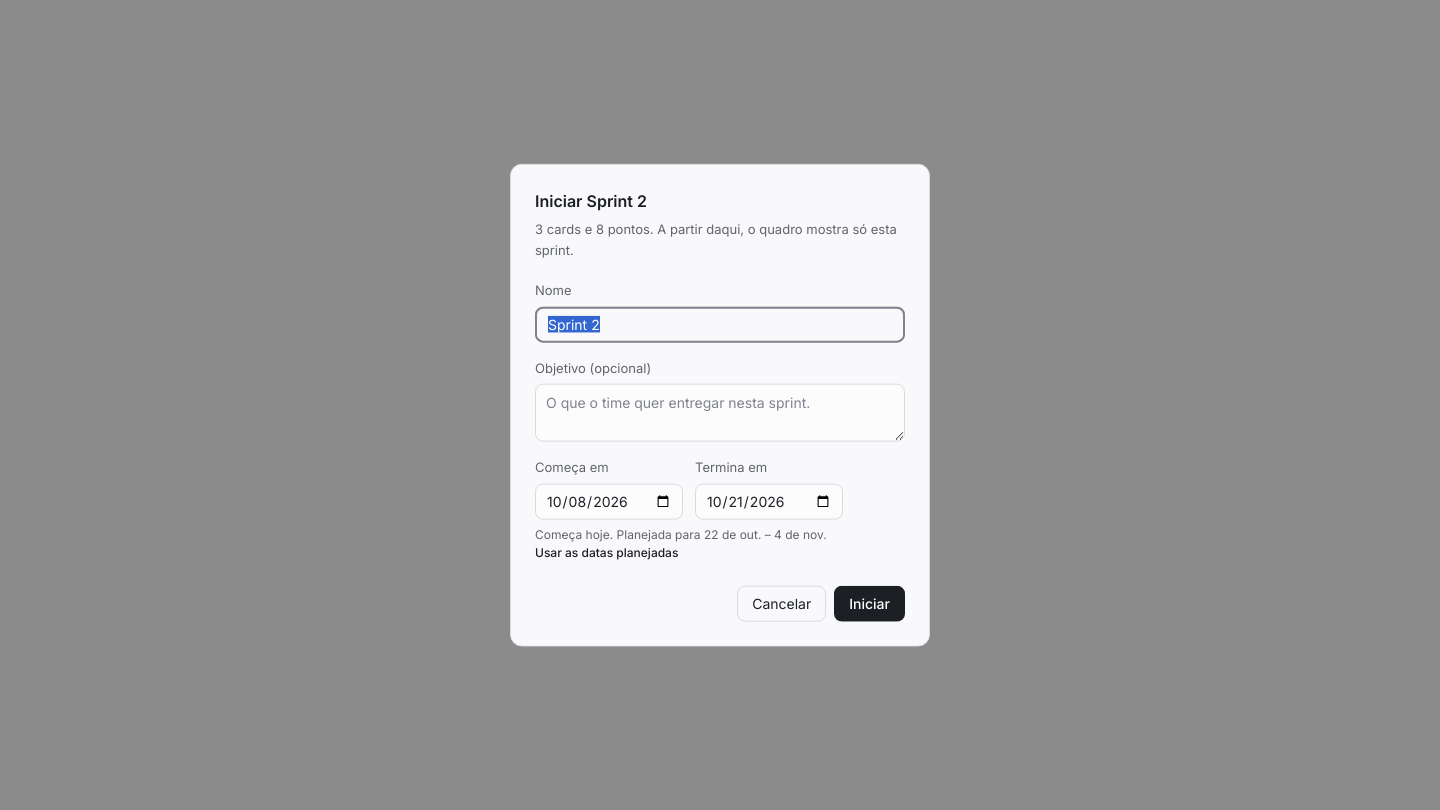
Test: iniciar uma sprint › mudar o comeco leva o fim junto, ate a pessoa mexer no fim; o fim antes do comeco barra
Type "2026-10-12" into the date field labelled "Começa em".
click(609, 501); type("2026-10-12")  # box [535,483,683,519]
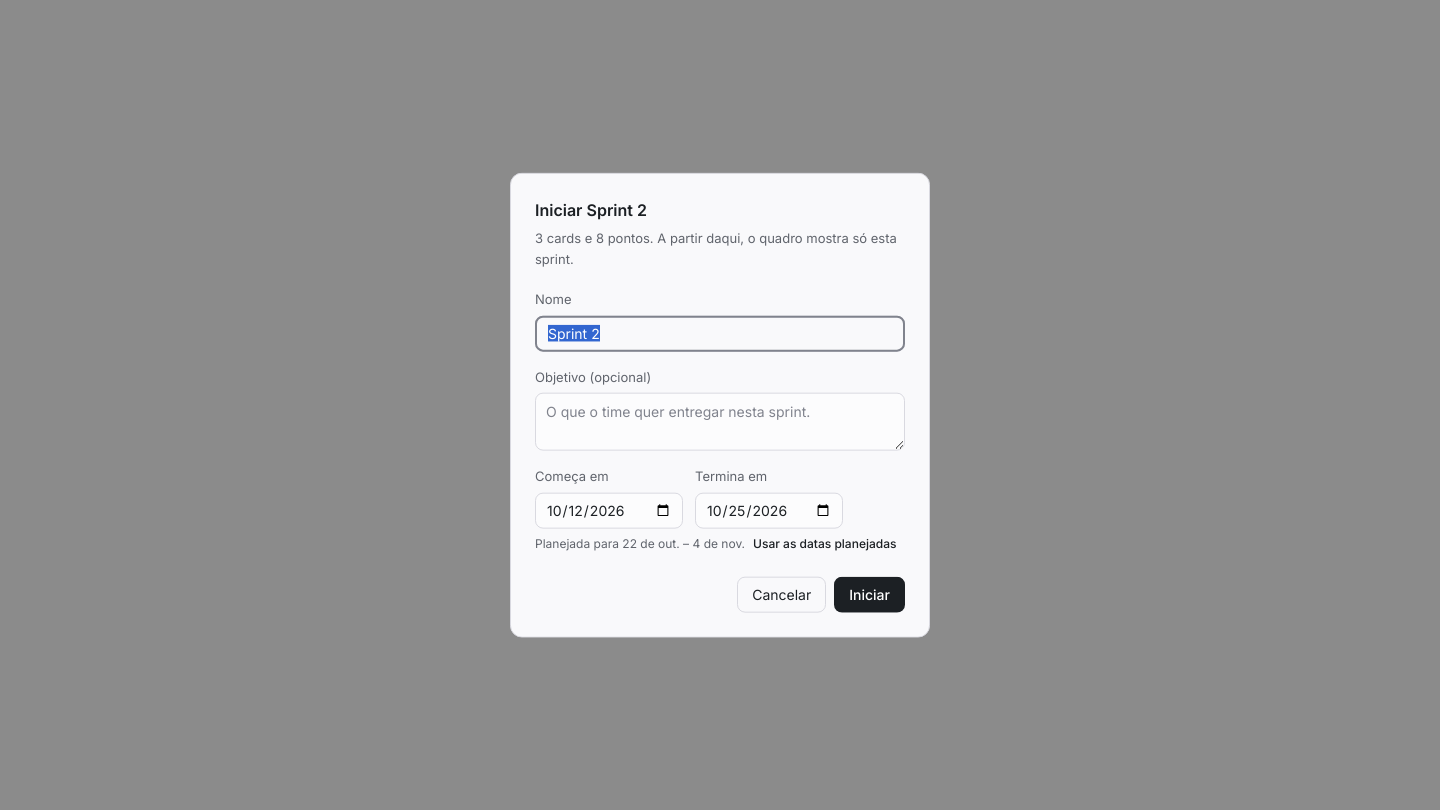
Expected: the text "Planejada para 22 de out. – 4 de nov." is shown, [535,534,745,552]
Expected: the date field labelled "Termina em" holds "2026-10-25"
// O fim escolhido a mao fica.
Type "2026-10-30" into the date field labelled "Termina em".
click(769, 510); type("2026-10-30")  # box [695,492,843,528]
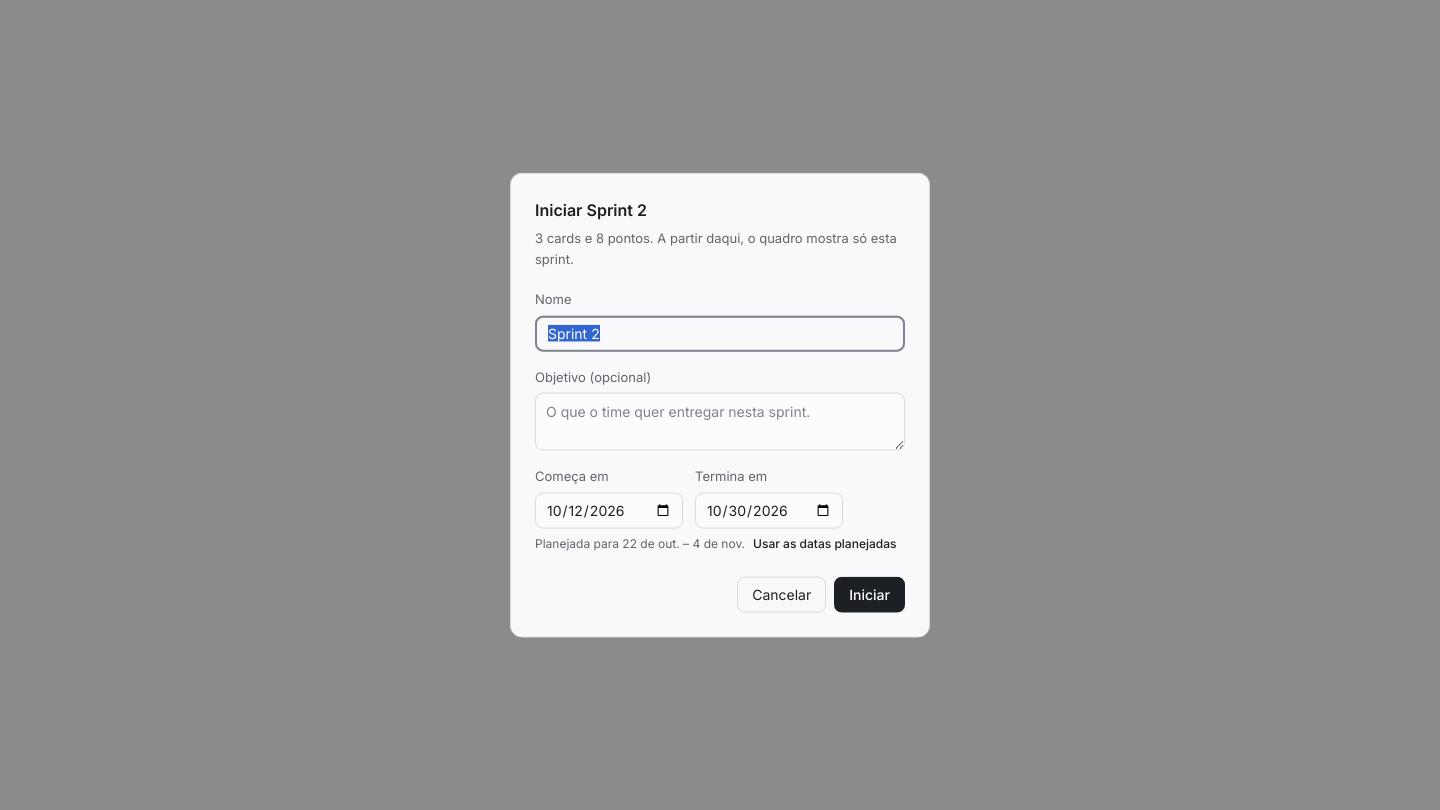
Type "2026-10-13" into the date field labelled "Começa em".
click(609, 510); type("2026-10-13")  # box [535,492,683,528]
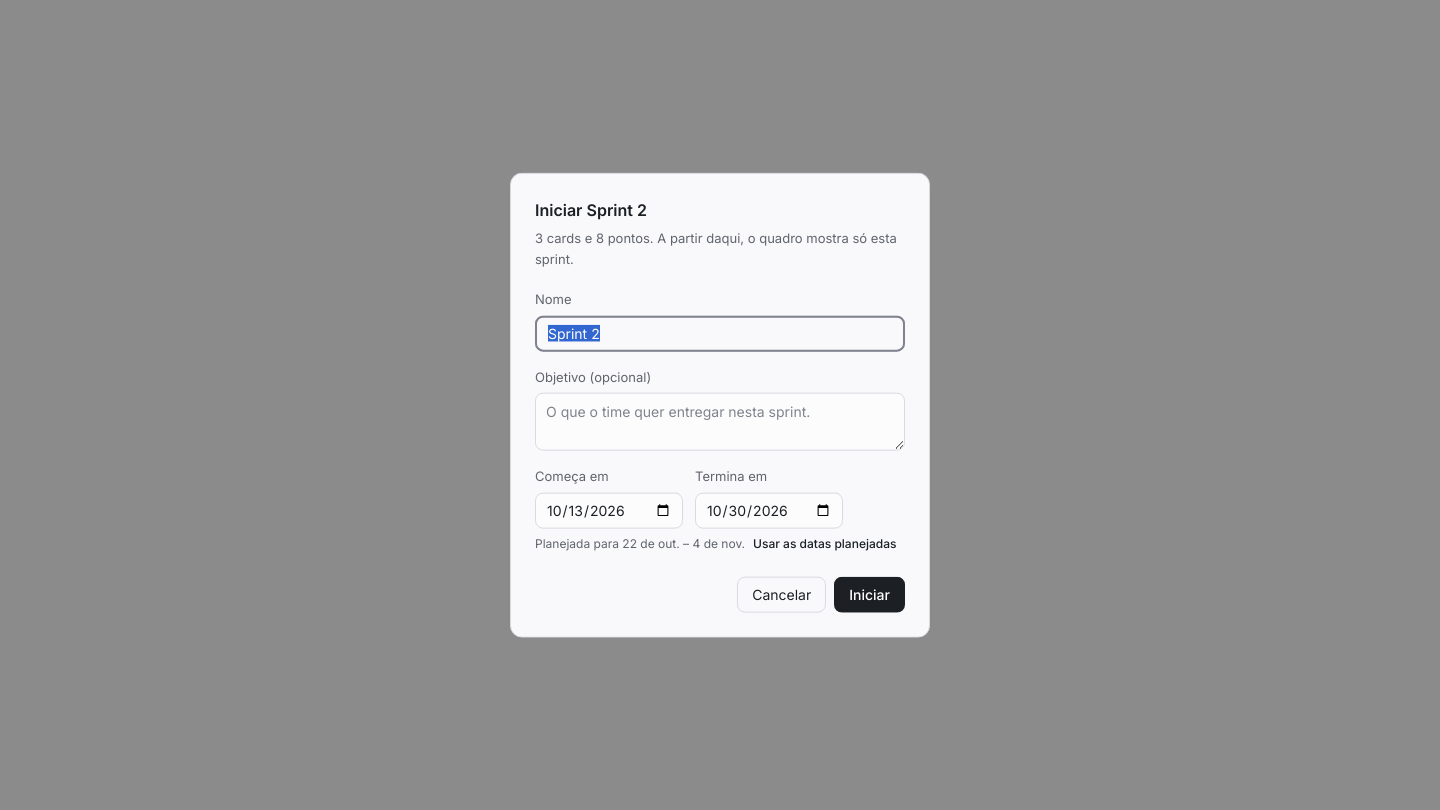
Type "2026-10-05" into the date field labelled "Termina em".
click(769, 510); type("2026-10-05")  # box [695,492,843,528]
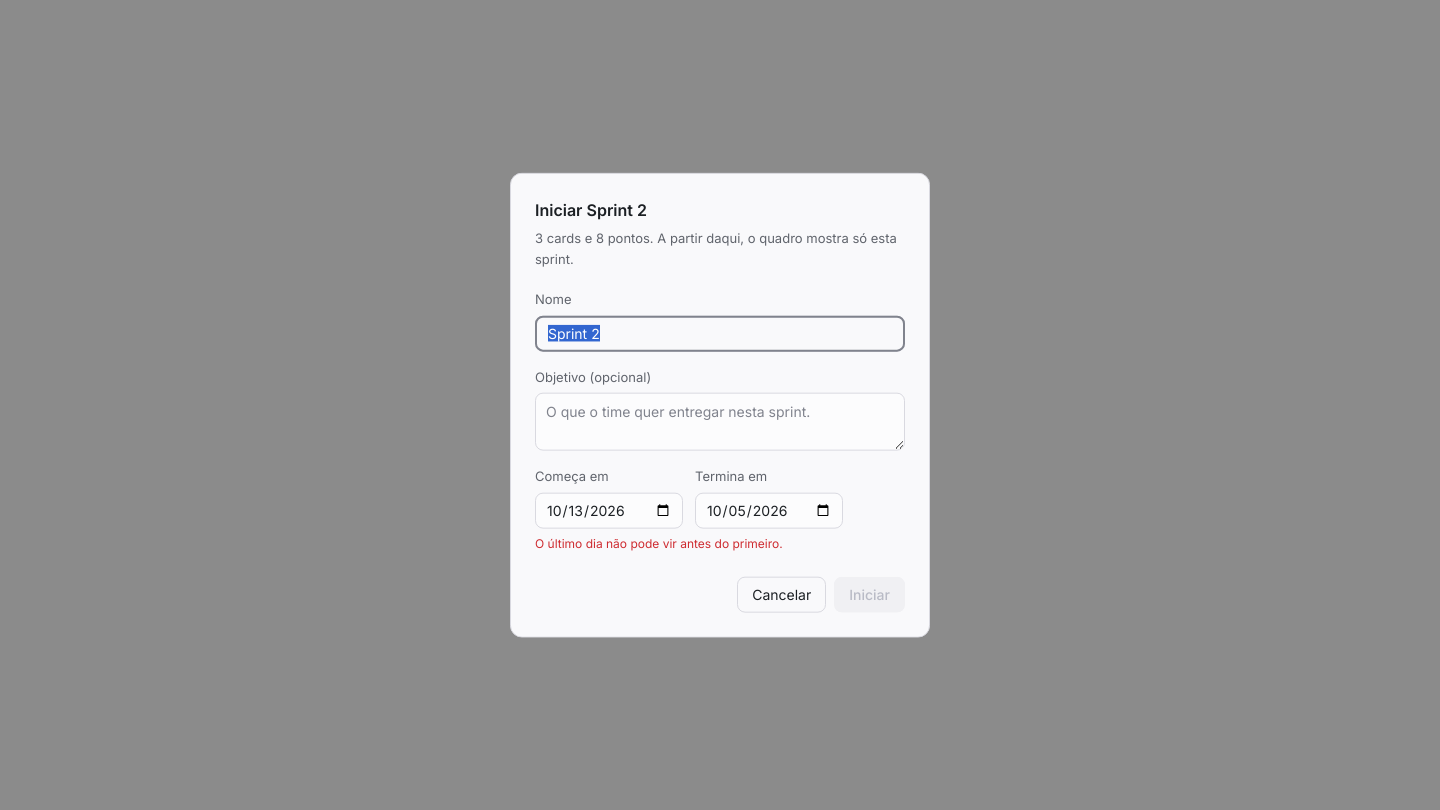
Expected: the text "O último dia não pode vir antes do primeiro." is shown, [535,535,783,550]
Expected: the button "Iniciar" is disabled, [834,576,905,612]
